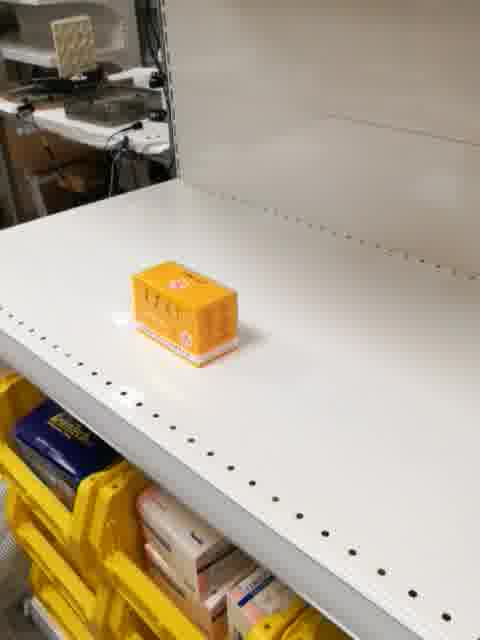jasminetea: (131, 260, 238, 369)
